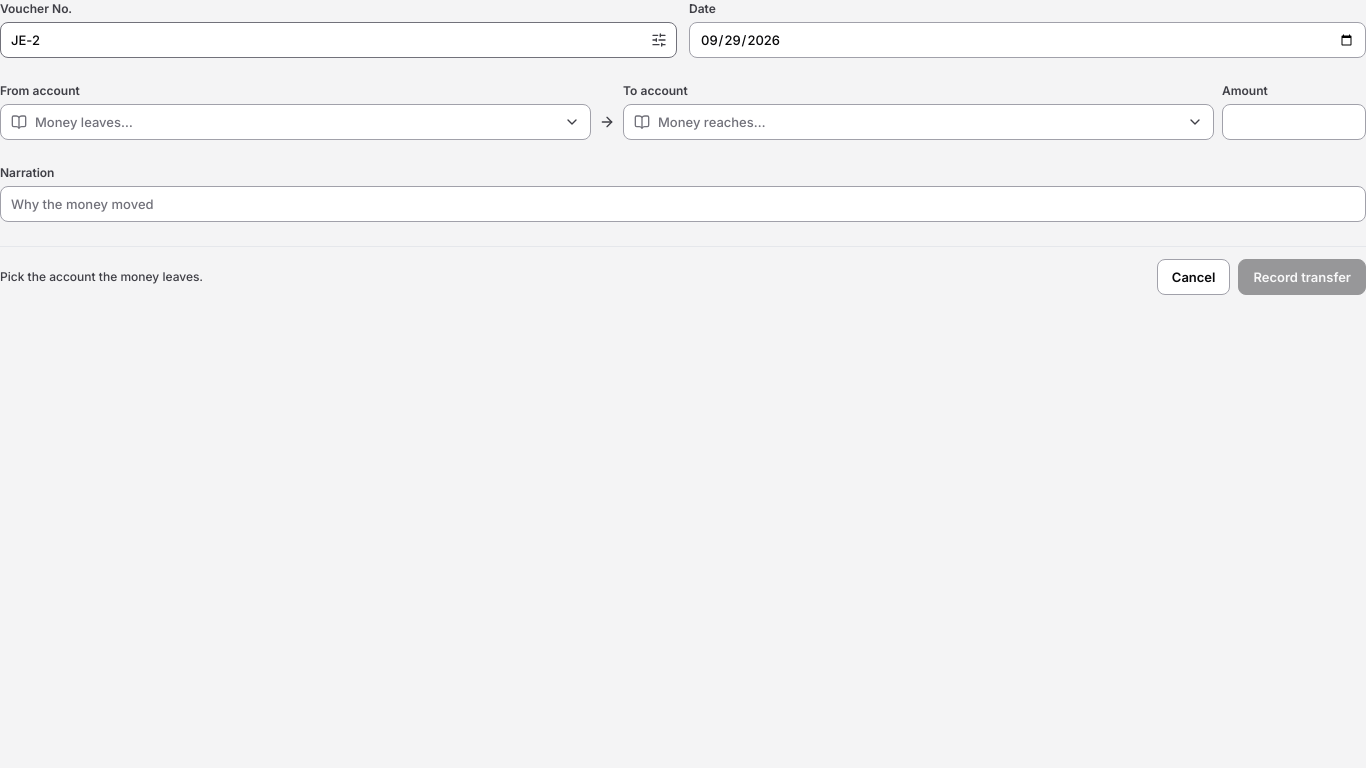
the transfer › offers only cash and bank accounts as legs
What coordinates should you click on to do the following:
click the dropdown named "From account"
I would click on:
 (84, 122)
Its box is [0,104,591,140].
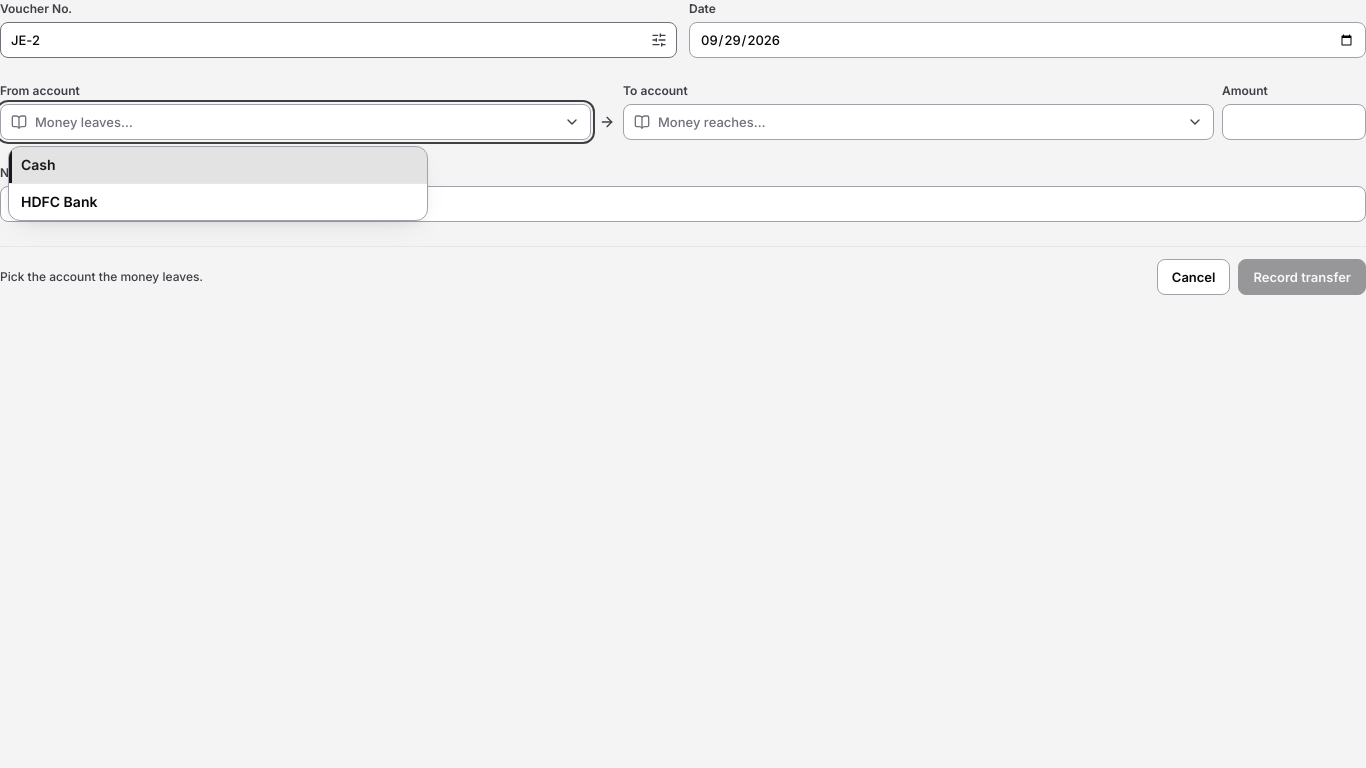
Expected: the option "Cash" is shown, [9,147,427,183]
Expected: the option "HDFC Bank" is shown, [9,183,427,220]
